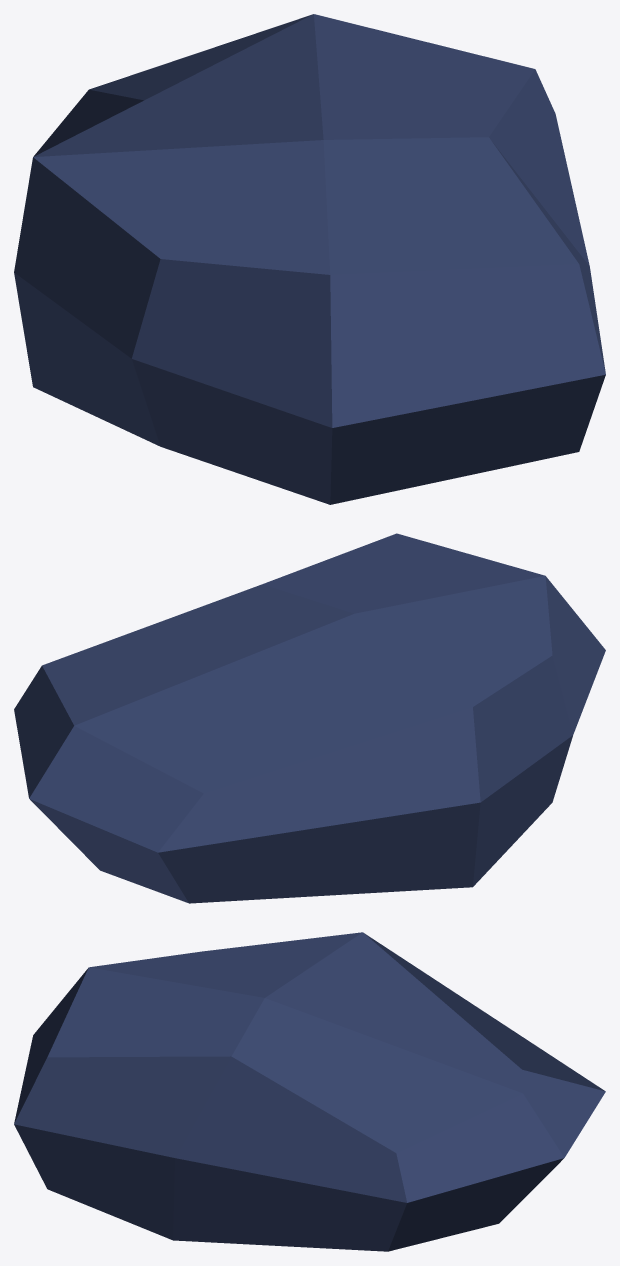
The model's file is rock-blue.fbx.
The picture shows the model from 3 angles, top to bottom: view 1: azimuth 30°, elevation 25°; view 2: azimuth 150°, elevation 25°; view 3: azimuth 270°, elevation 25°; orthographic projection. The views are drawn at different scales.
Visible parts, largest first — view 1: rock_blue; view 2: rock_blue; view 3: rock_blue.
Part boxes in pixels (x1,y1,x2,y2): rock_blue: [14, 14, 605, 504]; rock_blue: [14, 533, 605, 903]; rock_blue: [14, 932, 605, 1251].
Bounding box in the file's own units: 2.26 × 1.07 × 2.9.
